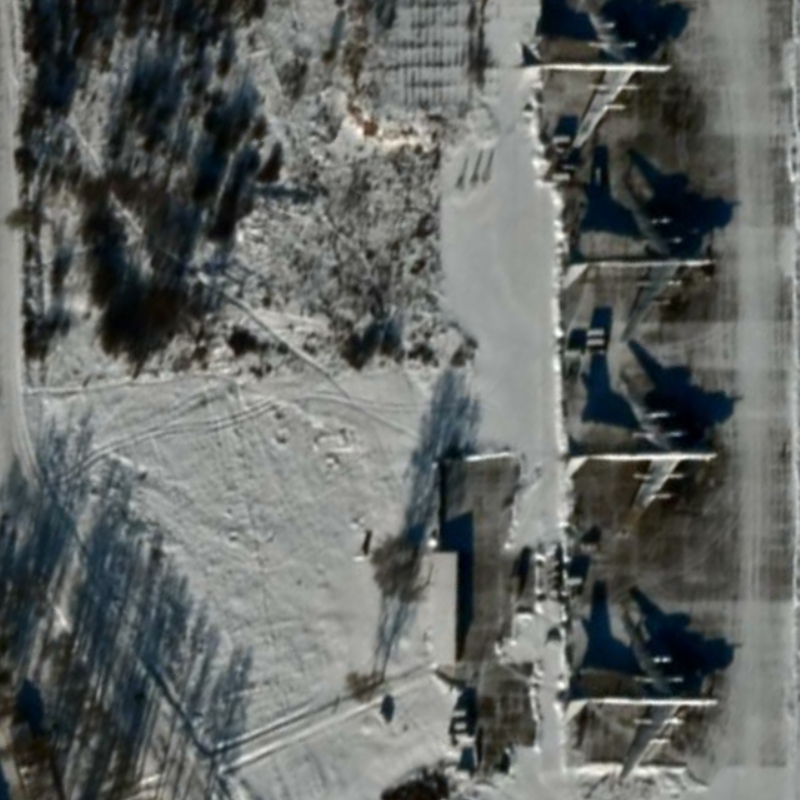A17: (562, 600, 724, 787), (561, 373, 722, 541), (561, 178, 721, 345), (516, 1, 674, 151)
